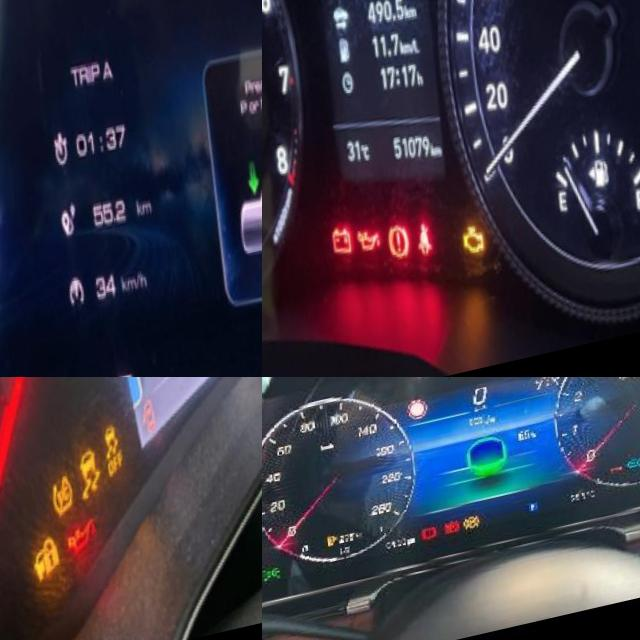Seat Belt: (400, 228, 426, 279), (442, 377, 457, 389)
